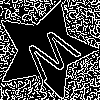W: (20, 25, 88, 90)
